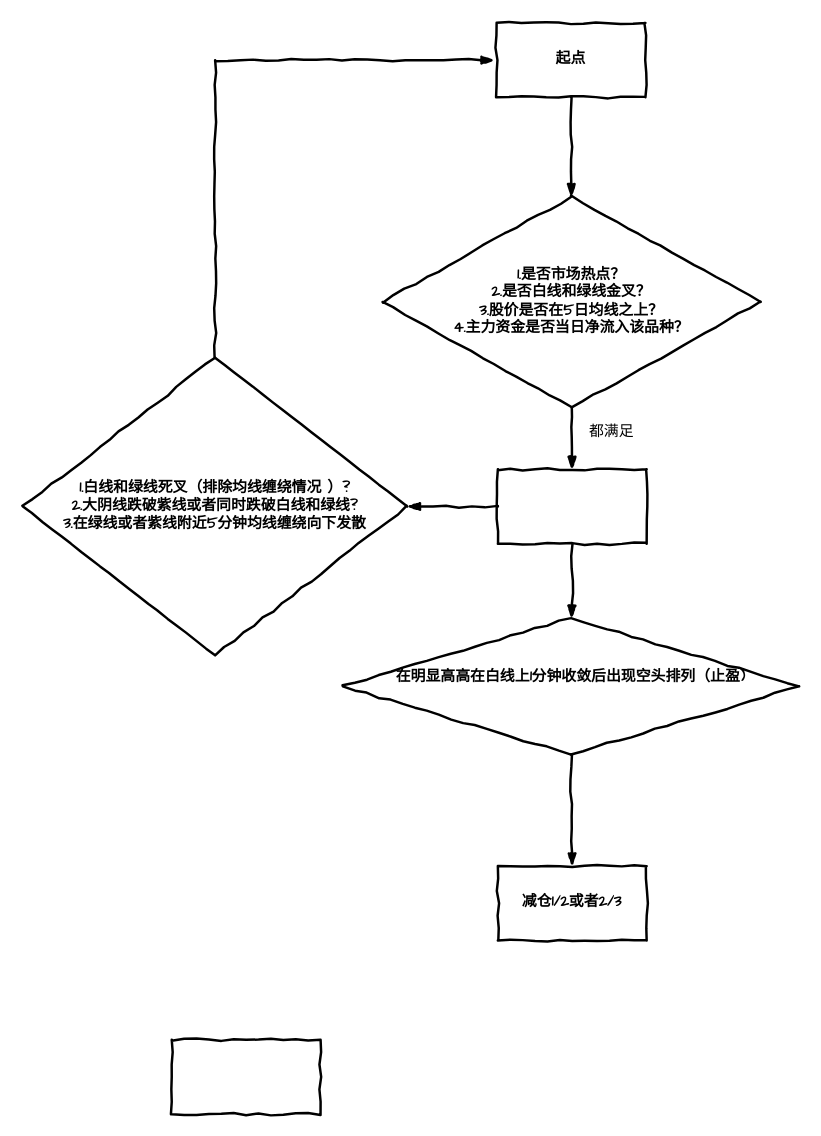
The diagram is 821 pixels wide and 1136 high, and some of its shapes have lost their labels. The shapes that lost their labels are listed below. From the top down, each one's centre as x and y in pixels, then its label:
At pixel 571 505: "建立1/4仓位".
At pixel 245 1076: "空仓".
